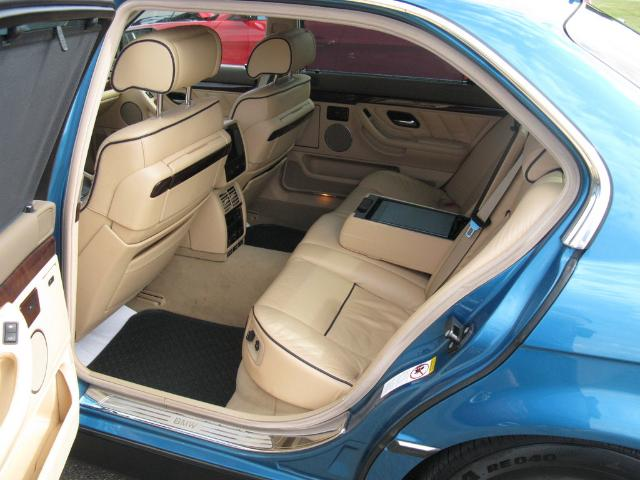Seatbelt: (424, 148, 522, 302)
